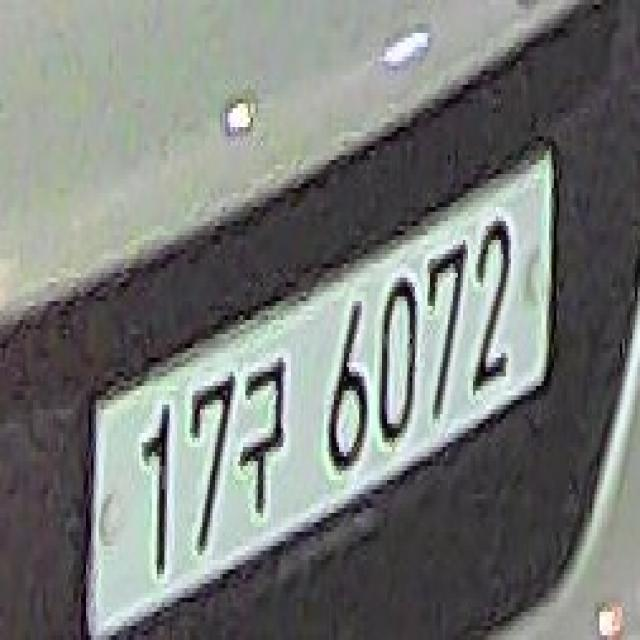0: (374, 259, 422, 461)
1: (132, 391, 177, 588)
2: (471, 202, 518, 396)
6: (319, 282, 374, 485)
7: (180, 367, 238, 560), (425, 231, 473, 433)
gu: (238, 348, 291, 536)
license_plate: (79, 122, 564, 640)
